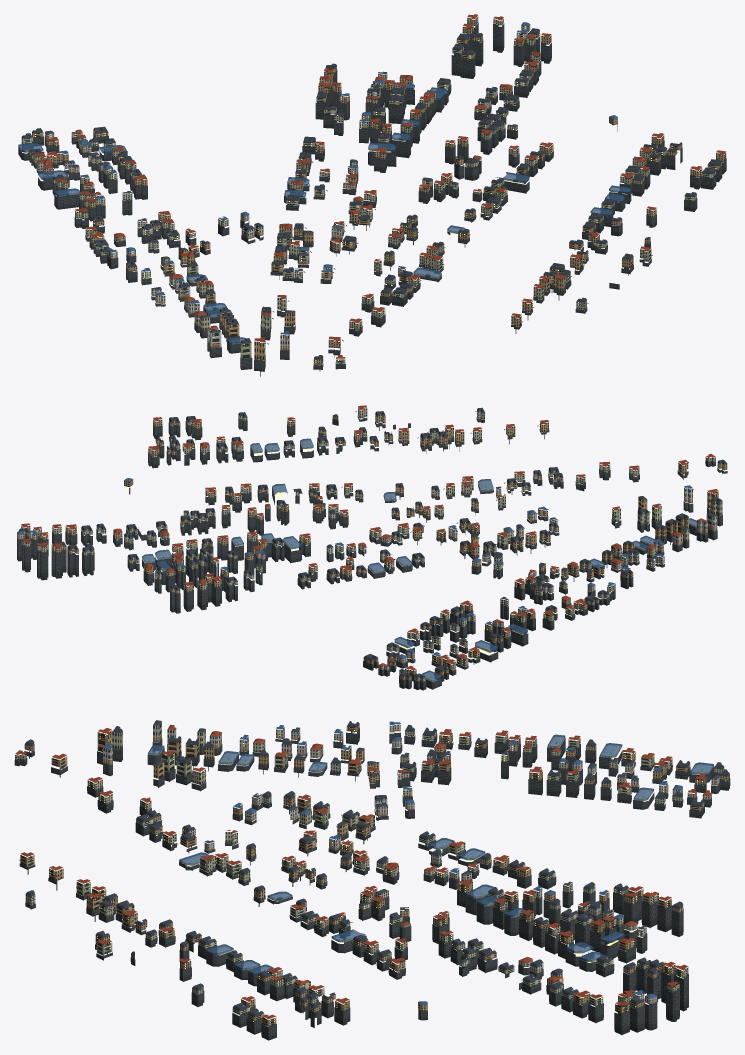
File: osm_buildings_T_E01_N01_Q2.glb
3 views of the same model, one above another, from view 1: azimuth 30°, elevation 25°; view 2: azimuth 150°, elevation 25°; view 3: azimuth 270°, elevation 25° (orthographic). The views are drawn at different scales.
Parts seen in each view (by area): view 1: OSM_PBR_T_E01_N01_Q2_foundation, OSM_PBR_T_E01_N01_Q2_wall_french_ochre, OSM_PBR_T_E01_N01_Q2_wall_cream_stucco, OSM_PBR_T_E01_N01_Q2_roof_mansard_slate, OSM_PBR_T_E01_N01_Q2_roof_terracotta, OSM_PBR_T_E01_N01_Q2_greenhouse_blend, OSM_PBR_T_E01_N01_Q2_roof_mansard_deck, OSM_PBR_T_E01_N01_Q2_wall_warm_white, OSM_PBR_T_E01_N01_Q2_wall_pastel_sand, OSM_PBR_T_E01_N01_Q2_trim_cornice, OSM_PBR_T_E01_N01_Q2_balcony_railing, OSM_PBR_T_E01_N01_Q2_roof_mint_metal (+1 smaller); view 2: OSM_PBR_T_E01_N01_Q2_foundation, OSM_PBR_T_E01_N01_Q2_wall_french_ochre, OSM_PBR_T_E01_N01_Q2_wall_cream_stucco, OSM_PBR_T_E01_N01_Q2_roof_mansard_slate, OSM_PBR_T_E01_N01_Q2_roof_terracotta, OSM_PBR_T_E01_N01_Q2_greenhouse_blend, OSM_PBR_T_E01_N01_Q2_roof_mansard_deck, OSM_PBR_T_E01_N01_Q2_wall_pastel_sand, OSM_PBR_T_E01_N01_Q2_wall_warm_white, OSM_PBR_T_E01_N01_Q2_trim_cornice, OSM_PBR_T_E01_N01_Q2_roof_mint_metal, OSM_PBR_T_E01_N01_Q2_roof_alpine_blue; view 3: OSM_PBR_T_E01_N01_Q2_foundation, OSM_PBR_T_E01_N01_Q2_wall_french_ochre, OSM_PBR_T_E01_N01_Q2_wall_cream_stucco, OSM_PBR_T_E01_N01_Q2_roof_mansard_slate, OSM_PBR_T_E01_N01_Q2_roof_terracotta, OSM_PBR_T_E01_N01_Q2_greenhouse_blend, OSM_PBR_T_E01_N01_Q2_roof_mansard_deck, OSM_PBR_T_E01_N01_Q2_wall_warm_white, OSM_PBR_T_E01_N01_Q2_wall_pastel_sand, OSM_PBR_T_E01_N01_Q2_roof_mint_metal, OSM_PBR_T_E01_N01_Q2_balcony_railing, OSM_PBR_T_E01_N01_Q2_trim_cornice (+2 smaller).
Part boxes in pixels (x1=…): OSM_PBR_T_E01_N01_Q2_foundation: x1=18, y1=22, x2=726, y2=376; OSM_PBR_T_E01_N01_Q2_wall_french_ochre: x1=29, y1=25, x2=726, y2=365; OSM_PBR_T_E01_N01_Q2_wall_cream_stucco: x1=21, y1=16, x2=715, y2=363; OSM_PBR_T_E01_N01_Q2_roof_mansard_slate: x1=22, y1=28, x2=721, y2=359; OSM_PBR_T_E01_N01_Q2_roof_terracotta: x1=34, y1=14, x2=726, y2=359; OSM_PBR_T_E01_N01_Q2_greenhouse_blend: x1=18, y1=82, x2=630, y2=344; OSM_PBR_T_E01_N01_Q2_roof_mansard_deck: x1=22, y1=28, x2=720, y2=357; OSM_PBR_T_E01_N01_Q2_wall_warm_white: x1=45, y1=31, x2=527, y2=350; OSM_PBR_T_E01_N01_Q2_wall_pastel_sand: x1=64, y1=24, x2=530, y2=348; OSM_PBR_T_E01_N01_Q2_trim_cornice: x1=30, y1=18, x2=725, y2=363; OSM_PBR_T_E01_N01_Q2_balcony_railing: x1=34, y1=19, x2=725, y2=363; OSM_PBR_T_E01_N01_Q2_roof_mint_metal: x1=23, y1=23, x2=726, y2=365; OSM_PBR_T_E01_N01_Q2_foundation: x1=17, y1=415, x2=727, y2=690; OSM_PBR_T_E01_N01_Q2_wall_french_ochre: x1=19, y1=414, x2=727, y2=680; OSM_PBR_T_E01_N01_Q2_wall_cream_stucco: x1=22, y1=407, x2=722, y2=681; OSM_PBR_T_E01_N01_Q2_roof_mansard_slate: x1=19, y1=408, x2=726, y2=678; OSM_PBR_T_E01_N01_Q2_roof_terracotta: x1=21, y1=405, x2=718, y2=670; OSM_PBR_T_E01_N01_Q2_greenhouse_blend: x1=142, y1=438, x2=696, y2=682; OSM_PBR_T_E01_N01_Q2_roof_mansard_deck: x1=20, y1=407, x2=725, y2=676; OSM_PBR_T_E01_N01_Q2_wall_pastel_sand: x1=17, y1=511, x2=717, y2=670; OSM_PBR_T_E01_N01_Q2_wall_warm_white: x1=28, y1=488, x2=692, y2=675; OSM_PBR_T_E01_N01_Q2_trim_cornice: x1=20, y1=408, x2=725, y2=679; OSM_PBR_T_E01_N01_Q2_roof_mint_metal: x1=25, y1=413, x2=726, y2=681; OSM_PBR_T_E01_N01_Q2_roof_alpine_blue: x1=17, y1=478, x2=692, y2=658; OSM_PBR_T_E01_N01_Q2_foundation: x1=14, y1=728, x2=730, y2=1040; OSM_PBR_T_E01_N01_Q2_wall_french_ochre: x1=20, y1=724, x2=729, y2=1026; OSM_PBR_T_E01_N01_Q2_wall_cream_stucco: x1=15, y1=728, x2=724, y2=1014; OSM_PBR_T_E01_N01_Q2_roof_mansard_slate: x1=25, y1=720, x2=729, y2=1016; OSM_PBR_T_E01_N01_Q2_roof_terracotta: x1=15, y1=724, x2=711, y2=1019; OSM_PBR_T_E01_N01_Q2_greenhouse_blend: x1=148, y1=734, x2=713, y2=975; OSM_PBR_T_E01_N01_Q2_roof_mansard_deck: x1=26, y1=721, x2=728, y2=1014; OSM_PBR_T_E01_N01_Q2_wall_warm_white: x1=103, y1=728, x2=719, y2=999; OSM_PBR_T_E01_N01_Q2_wall_pastel_sand: x1=153, y1=722, x2=711, y2=1003; OSM_PBR_T_E01_N01_Q2_roof_mint_metal: x1=15, y1=730, x2=729, y2=1026; OSM_PBR_T_E01_N01_Q2_balcony_railing: x1=28, y1=735, x2=702, y2=1024; OSM_PBR_T_E01_N01_Q2_trim_cornice: x1=15, y1=724, x2=728, y2=1021.
Size of the model in its own units: 997 by 92.82 by 985.
18 materials, 16 textured.
